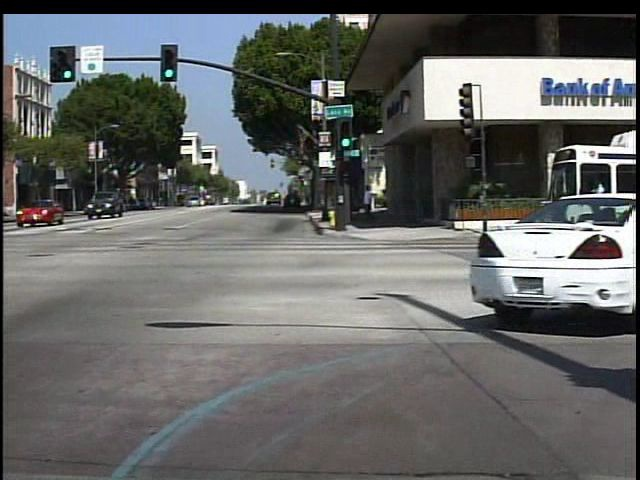person: (360, 181, 380, 226)
